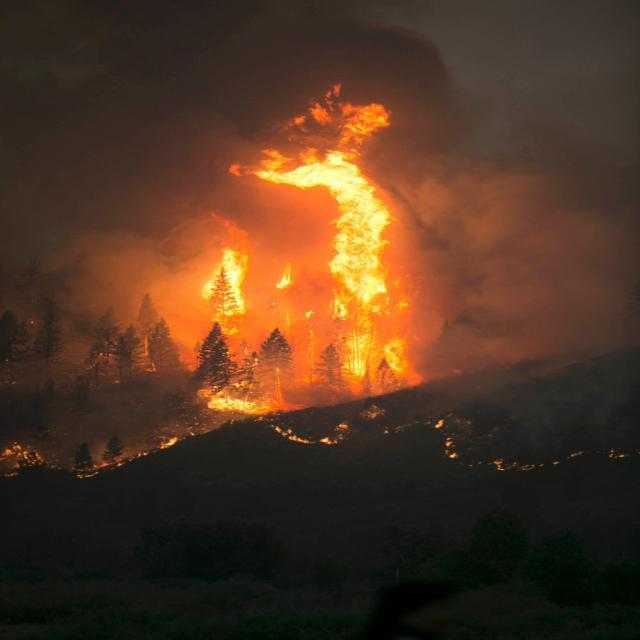Fire: (332, 205, 405, 372), (262, 102, 393, 190), (196, 252, 246, 324)
